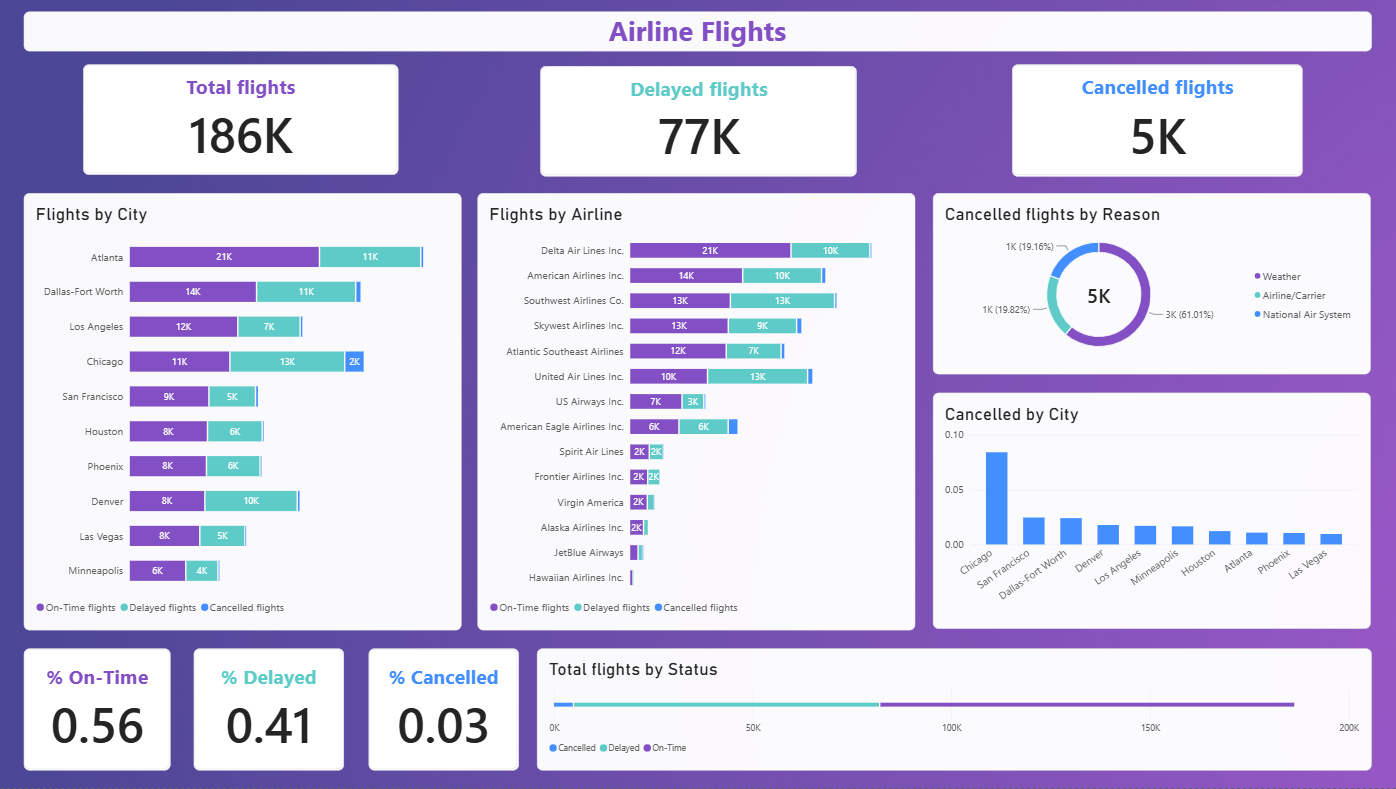

What the dashboard file says about the page in this screenshot:
{"tool":"powerbi","page":{"name":"Airline Flights","canvas":[1920,1080],"ordinal":0},"visuals":[{"type":"cardVisual","fields":{"Data":["flights.Delayed flights"]},"box":[741.8,90.5,434.2,151.5],"z":0},{"type":"cardVisual","fields":{"Data":["flights.Total flights"]},"box":[115.3,88.2,432,151.5],"z":1000},{"type":"cardVisual","fields":{"Data":["flights.Cancelled flights"]},"box":[1388.6,88.2,398,153.8],"z":2000},{"type":"cardVisual","fields":{"Data":["flights.% Cancelled"]},"box":[506.6,888.8,205.8,167.4],"z":3000},{"type":"cardVisual","fields":{"Data":["flights.% Delayed"]},"box":[266.9,888.8,205.8,167.4],"z":4000},{"type":"cardVisual","fields":{"Data":["flights.% On-Time"]},"box":[33.9,888.8,201.3,167.4],"z":5000},{"type":"barChart","title":"Flights by City","fields":{"Y":["flights.On-Time flights","flights.Delayed flights","flights.Cancelled flights"],"Category":["airports.CITY"]},"box":[34.2,265.7,600,599.3],"z":6000},{"type":"barChart","title":"Flights by Airline","fields":{"Category":["airlines.AIRLINE"],"Y":["flights.On-Time flights","flights.Delayed flights","flights.Cancelled flights"]},"box":[655.9,264.6,600,599.3],"z":7000},{"type":"donutChart","title":"Cancelled flights by Reason","fields":{"Category":["cancellation_codes.CANCELLATION_DESCRIPTION"],"Y":["flights.Cancelled flights"]},"box":[1281.2,265.7,600,248.8],"z":8000},{"type":"columnChart","title":"Cancelled by City","fields":{"Y":["flights.% Cancelled"],"Category":["airports.CITY"]},"box":[1281.2,539.3,599.8,323.6],"z":9000},{"type":"barChart","fields":{"Y":["flights.Total flights"],"Series":["flights.Status"]},"box":[736.6,889.2,1144.4,167],"z":10000},{"type":"textbox","box":[33.9,15.8,1847.8,54.3],"z":11000}]}

Visuals, with their boxes in screenshot pixels (x1, y1, x2, y2), scaled from the page's 1920x1080 canvas onto the 1396x789 screenshot:
cardVisual - flights.Delayed flights: l=539, t=66, r=855, b=177
cardVisual - flights.Total flights: l=84, t=64, r=398, b=175
cardVisual - flights.Cancelled flights: l=1010, t=64, r=1299, b=177
cardVisual - flights.% Cancelled: l=368, t=649, r=518, b=772
cardVisual - flights.% Delayed: l=194, t=649, r=344, b=772
cardVisual - flights.% On-Time: l=25, t=649, r=171, b=772
"Flights by City" barChart: l=25, t=194, r=461, b=632
"Flights by Airline" barChart: l=477, t=193, r=913, b=631
"Cancelled flights by Reason" donutChart: l=932, t=194, r=1368, b=376
"Cancelled by City" columnChart: l=932, t=394, r=1368, b=630
barChart - flights.Total flights x flights.Status: l=536, t=650, r=1368, b=772
textbox: l=25, t=12, r=1368, b=51
